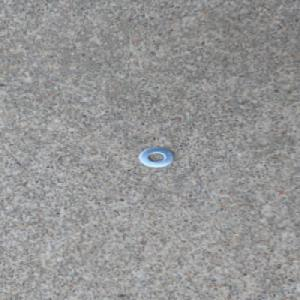Washer: (137, 146, 174, 167)
